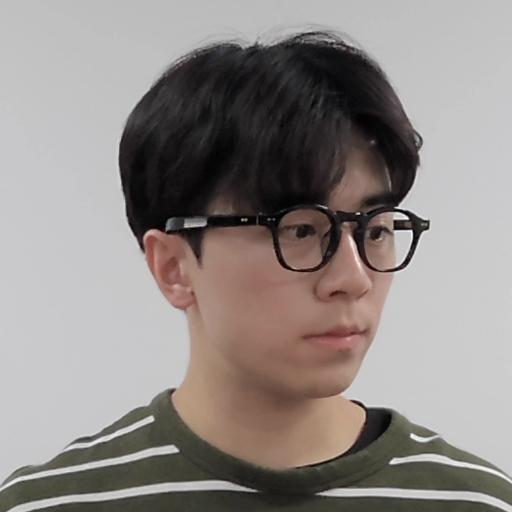no_glasses: (121, 39, 442, 402)
